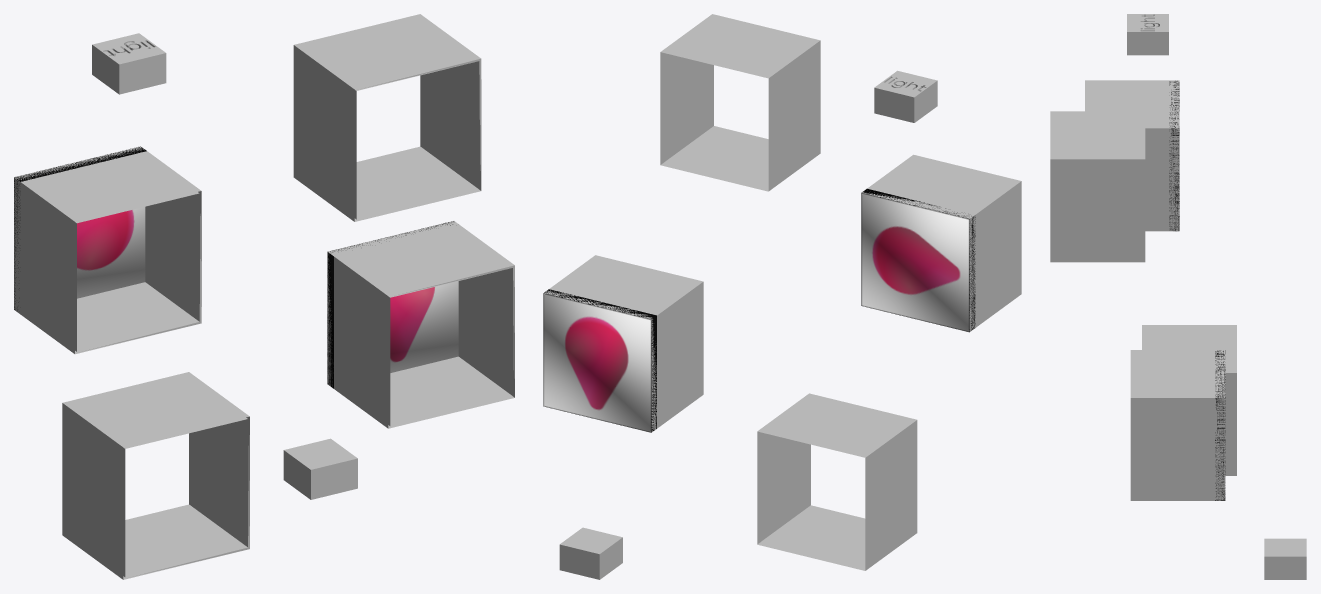
The model's file is bins_v2_blood.obj.
3 views of the same model, side by side, from view 1: azimuth 30°, elevation 25°; view 2: azimuth 150°, elevation 25°; view 3: azimuth 270°, elevation 25° (orthographic). The views are drawn at different scales.
Parts seen in each view (by area): view 1: mesh44, mesh44.003, mesh44.002, mesh44.001, mesh43.001, mesh43, mesh43.002, mesh43.003, mesh45.003, mesh45.001, mesh47.002, mesh47.003 (+12 smaller); view 2: mesh45.001, mesh45.003, mesh44, mesh44.003, mesh44.002, mesh44.001, mesh43, mesh43.001, mesh43.003, mesh43.002, mesh47.002, mesh47.003 (+8 smaller); view 3: mesh42.001, mesh42.003, mesh43.001, mesh43.002, mesh42, mesh43.003, mesh43, mesh42.002, mesh65, mesh67, mesh68.001, mesh45.001 (+2 smaller).
Part boxes in pixels (<box>): mesh44: <box>62,403,123,579</box>; mesh44.003: <box>293,45,354,221</box>; mesh44.002: <box>14,177,74,353</box>; mesh44.001: <box>327,252,388,428</box>; mesh43.001: <box>294,14,480,89</box>; mesh43: <box>62,372,249,447</box>; mesh43.002: <box>328,221,514,295</box>; mesh43.003: <box>14,146,201,221</box>; mesh45.003: <box>14,146,146,310</box>; mesh45.001: <box>327,221,458,388</box>; mesh47.002: <box>421,61,479,188</box>; mesh47.003: <box>190,419,247,546</box>; mesh45.001: <box>543,289,656,432</box>; mesh45.003: <box>861,188,975,332</box>; mesh44: <box>865,420,917,570</box>; mesh44.003: <box>768,40,820,190</box>; mesh44.002: <box>969,181,1021,331</box>; mesh44.001: <box>651,282,703,431</box>; mesh43: <box>757,393,916,457</box>; mesh43.001: <box>661,14,819,78</box>; mesh43.003: <box>862,154,1020,218</box>; mesh43.002: <box>543,255,703,319</box>; mesh47.002: <box>664,53,713,161</box>; mesh47.003: <box>761,432,810,541</box>; mesh42.001: <box>1050,159,1145,262</box>; mesh42.003: <box>1130,398,1225,500</box>; mesh43.001: <box>1050,111,1145,159</box>; mesh43.002: <box>1130,350,1225,397</box>; mesh42: <box>1145,128,1179,231</box>; mesh43.003: <box>1085,80,1179,128</box>; mesh43: <box>1142,325,1236,372</box>; mesh42.002: <box>1225,373,1236,475</box>; mesh65: <box>1264,556,1306,579</box>; mesh67: <box>1127,32,1168,55</box>; mesh68.001: <box>1264,538,1306,556</box>; mesh45.001: <box>1215,350,1225,500</box>.
Size of the model in its own units: 1.24 by 1.44 by 0.7553.
